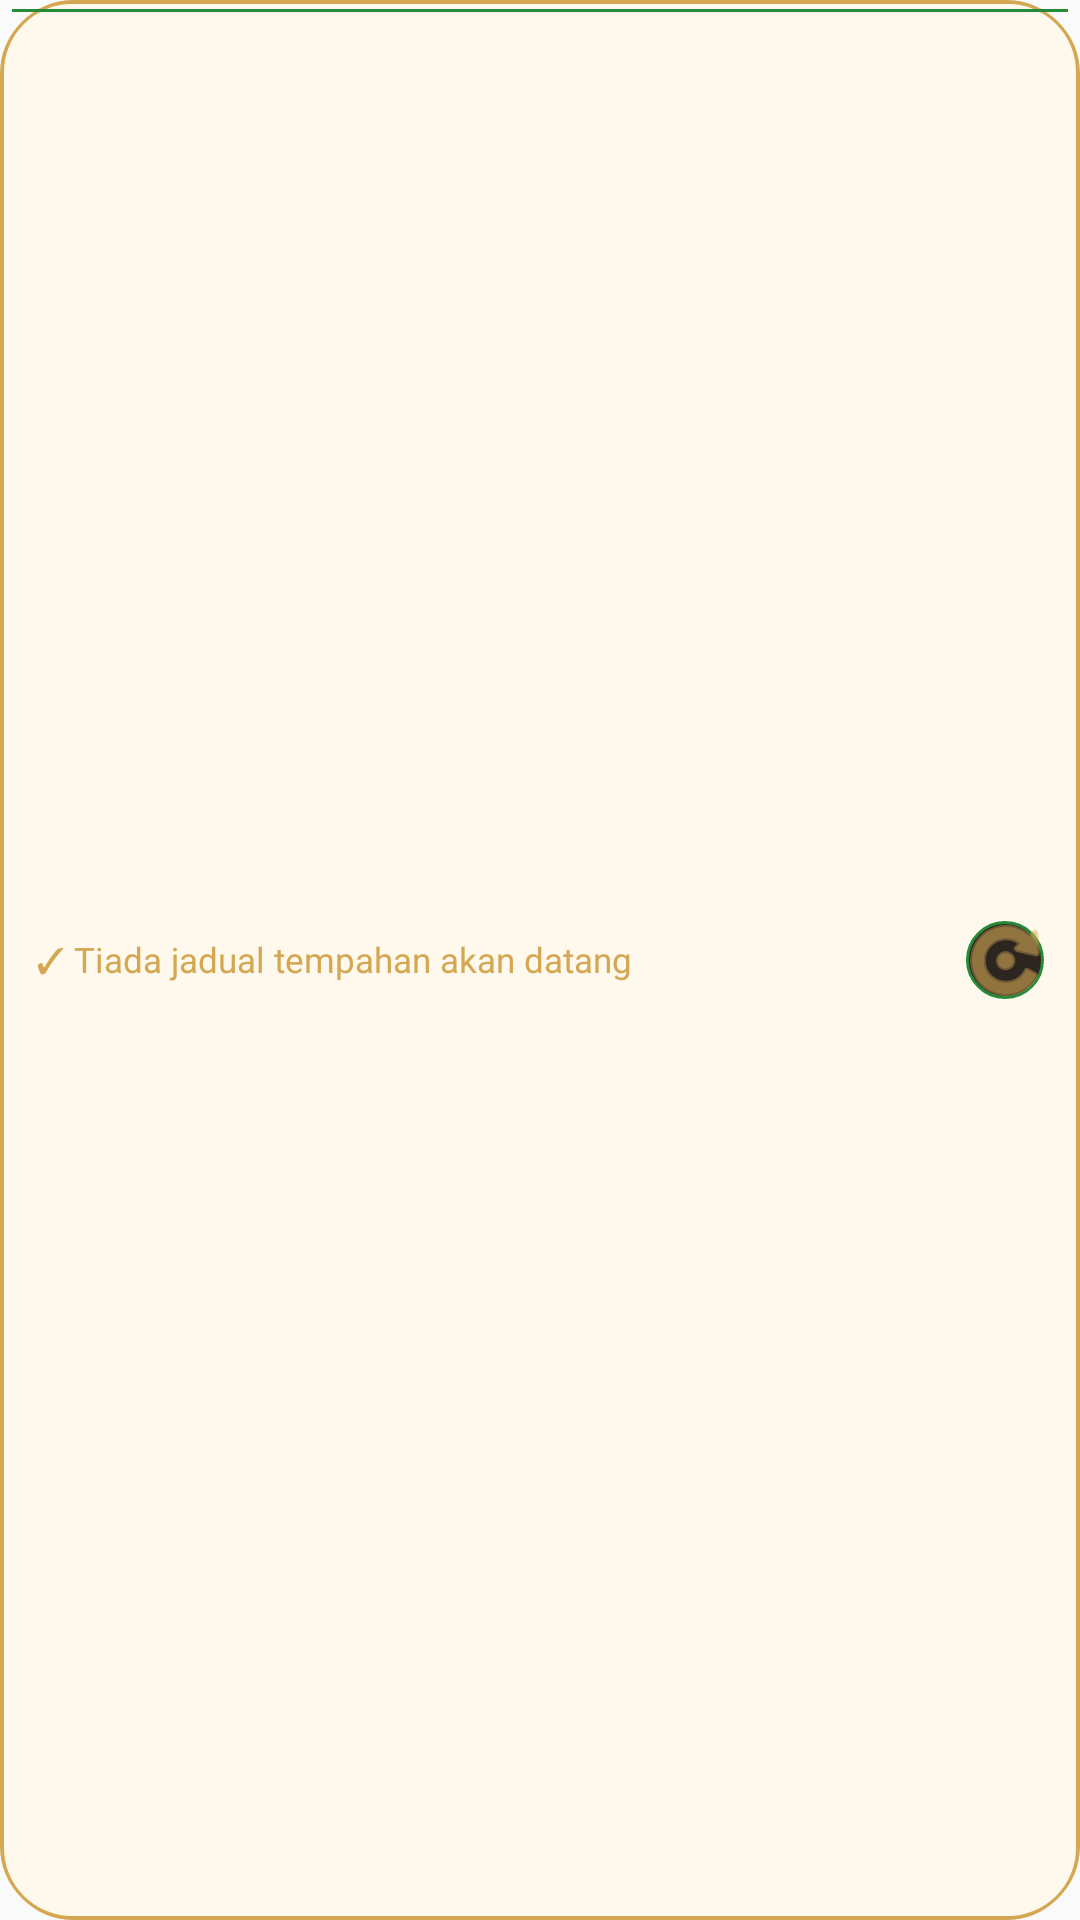

Where to tap for icons on this 1080×1920 app screen, as point (x, y):
Muat Semula: point (1005, 960)
